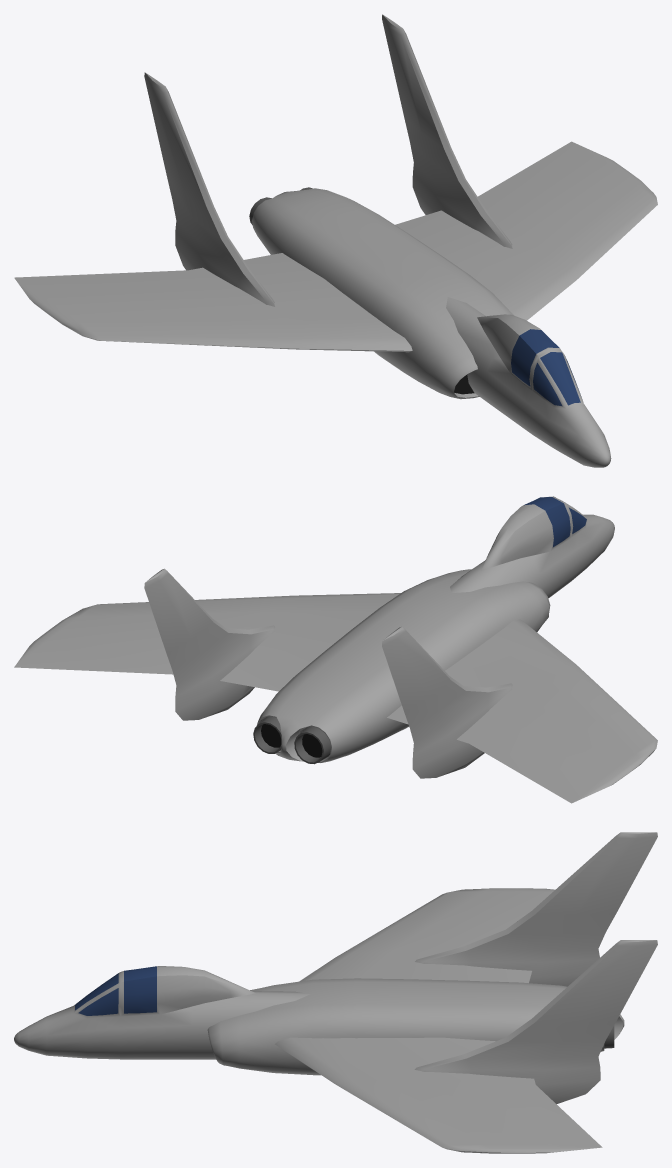
File: F7U_CUTLASS.glb
3 renders of one model, top to bottom at view 1: azimuth 30°, elevation 25°; view 2: azimuth 150°, elevation 25°; view 3: azimuth 270°, elevation 25°, orthographic. The views are drawn at different scales.
Parts seen in each view (by area): view 1: f7u_cutlass; view 2: f7u_cutlass; view 3: f7u_cutlass.
Boxes of the visible parts, <box> form: f7u_cutlass: <box>14,14,657,467</box>; f7u_cutlass: <box>14,496,657,803</box>; f7u_cutlass: <box>14,832,657,1153</box>.
Bounding box in the file's own units: 12.61 × 3.89 × 13.
